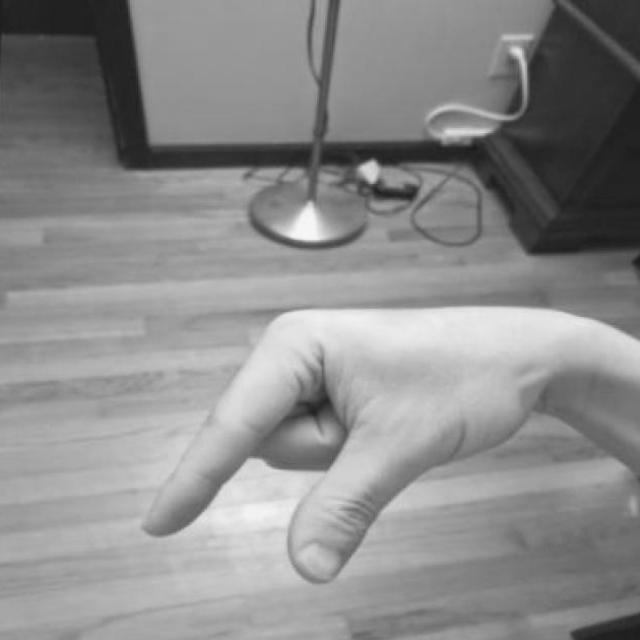Q: (138, 300, 587, 588)
